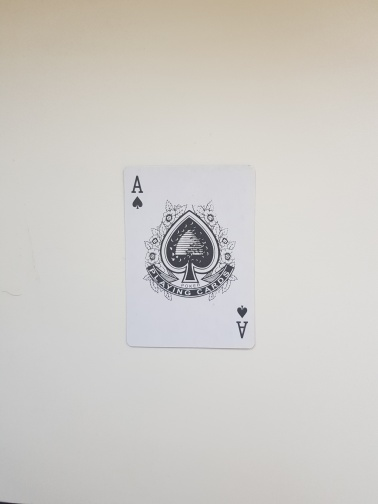ace: (122, 165, 255, 349)
